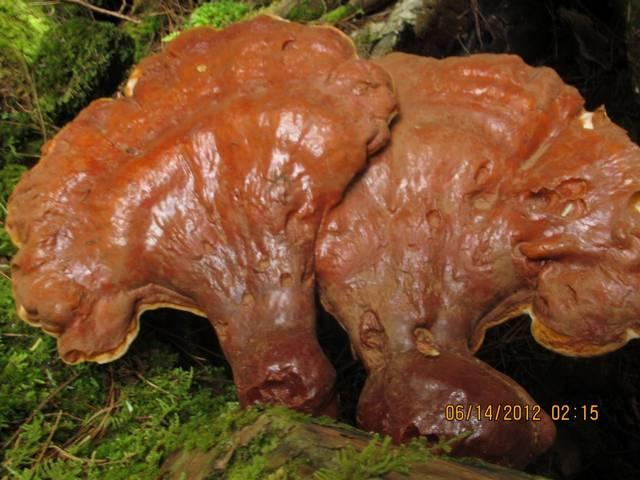poisonous_mushroom: (3, 12, 399, 416), (312, 48, 639, 469)
